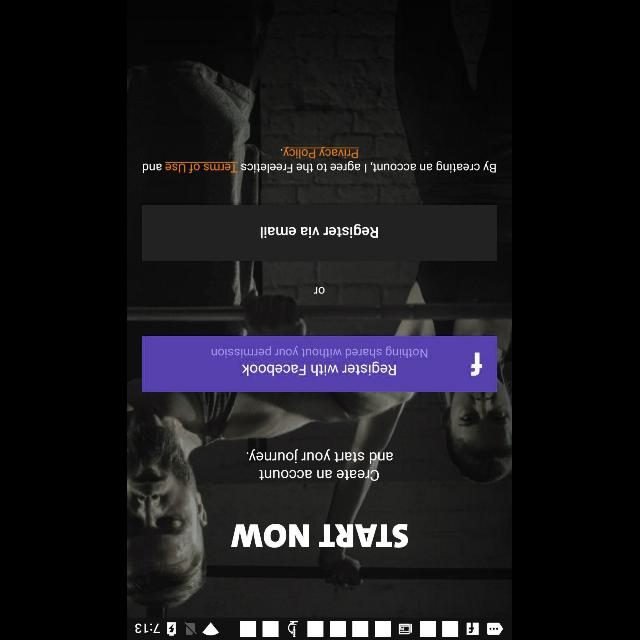text: (143, 145, 497, 173), (246, 447, 394, 481), (231, 523, 409, 547), (313, 285, 327, 295)
textbutton: (142, 336, 498, 392), (142, 205, 498, 261)
uppertaskbar: (128, 617, 512, 639)
